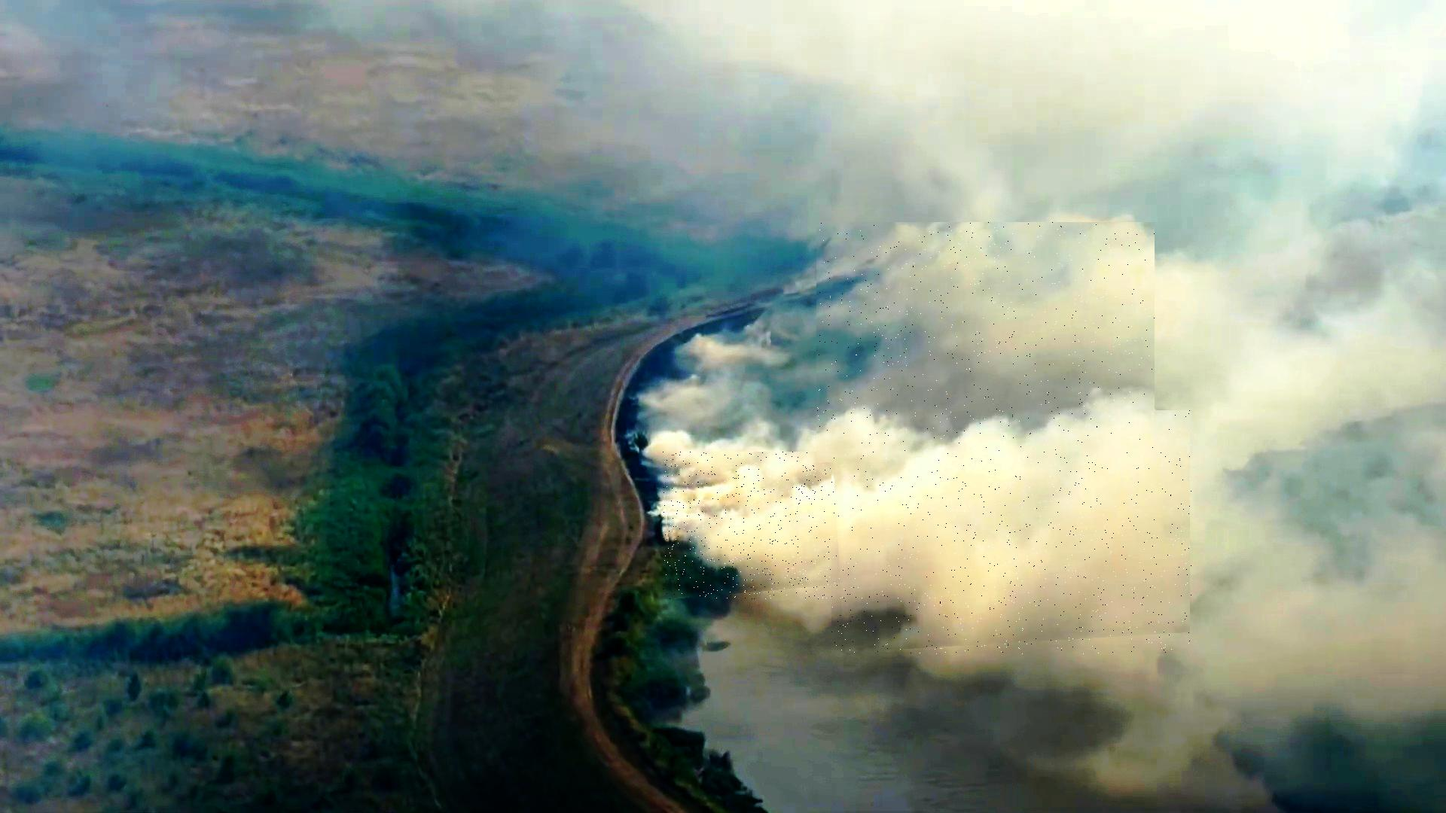smoke: (832, 411, 1192, 655), (817, 223, 1157, 465), (663, 452, 890, 600)
